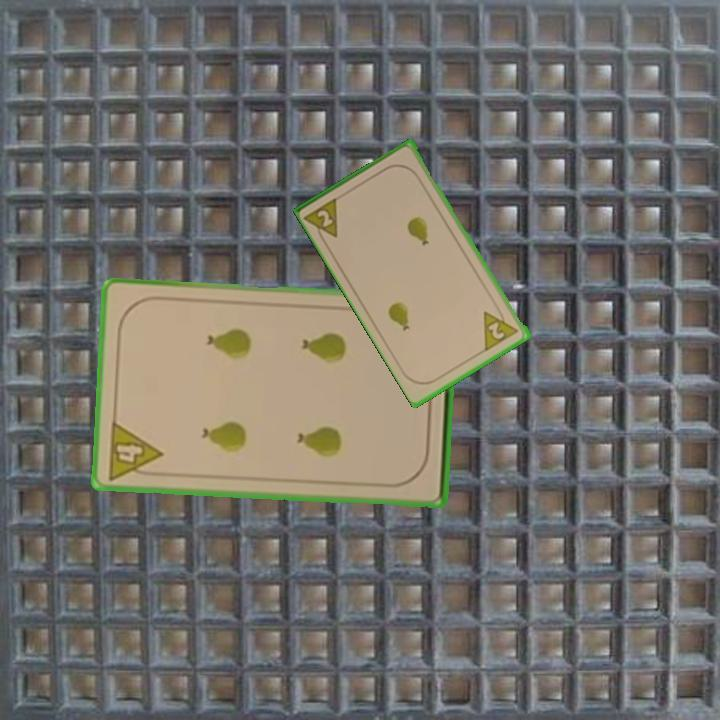2p: (302, 193, 343, 247), (480, 302, 522, 353)
4p: (103, 418, 165, 483)
